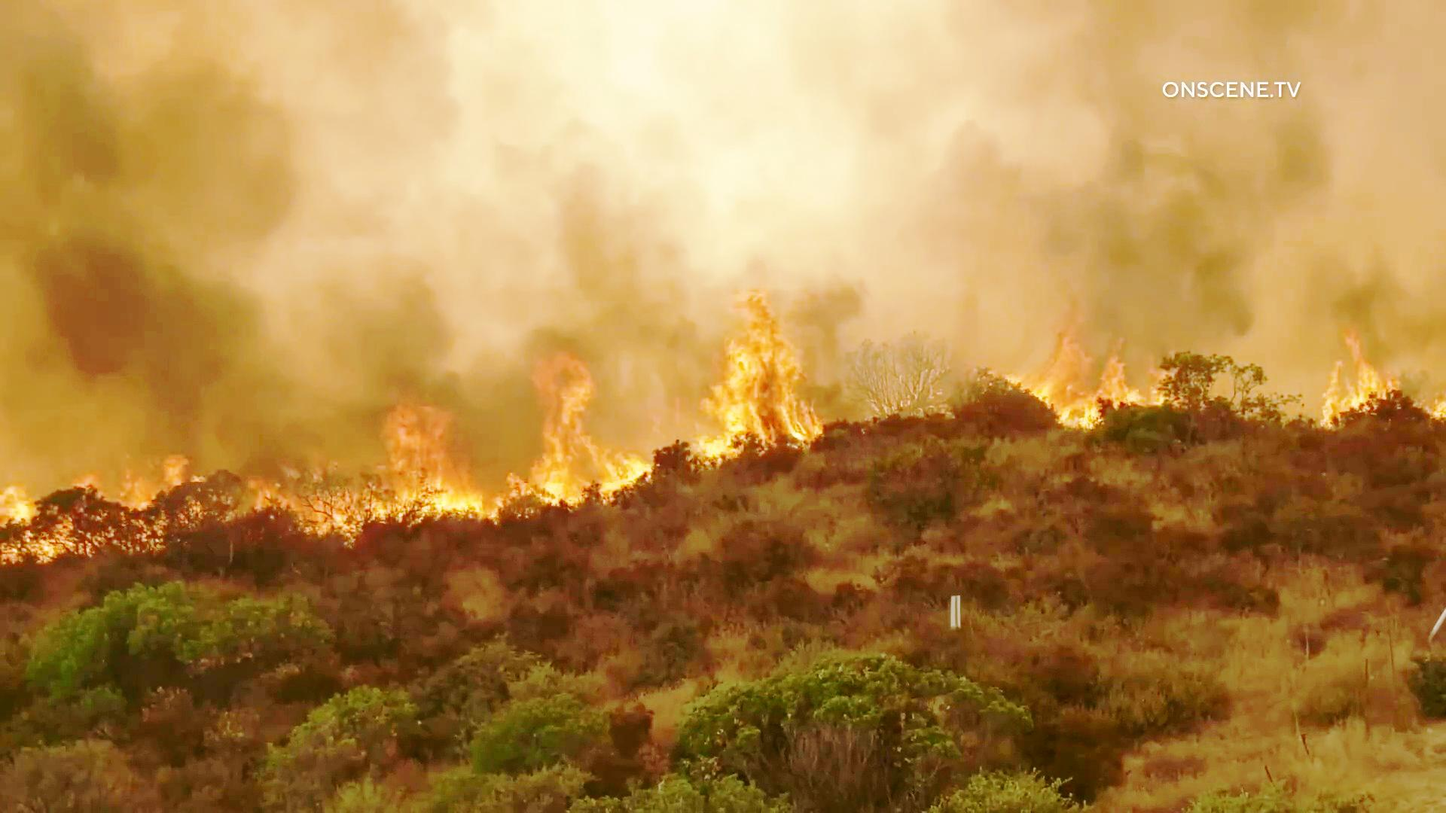fire: (686, 281, 838, 460), (499, 335, 627, 506), (345, 386, 484, 518), (1011, 313, 1136, 417), (1320, 311, 1376, 413)
smoke: (0, 59, 315, 475)
